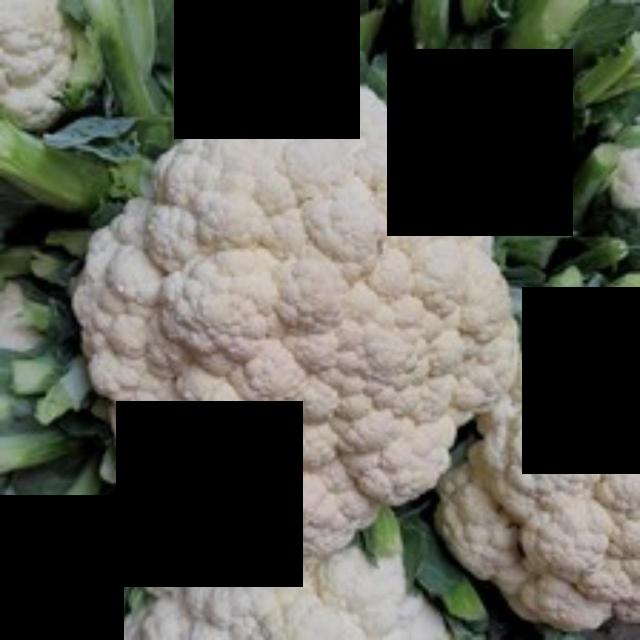cauliflower: (76, 76, 533, 558)
